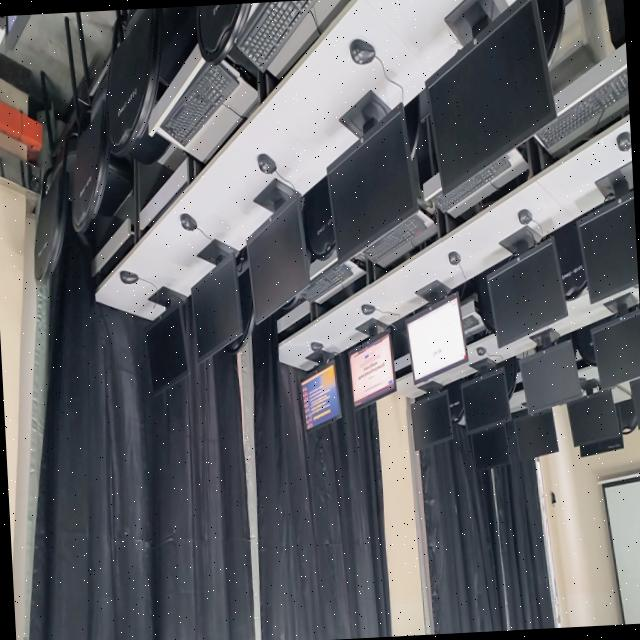Chair: (65, 12, 121, 232), (34, 62, 77, 283), (107, 8, 162, 153), (552, 221, 587, 301), (197, 4, 242, 63), (303, 178, 335, 260), (226, 269, 254, 353), (537, 0, 565, 62), (499, 357, 519, 401), (444, 381, 464, 422), (615, 399, 637, 434)
Keyboard: (537, 70, 629, 149), (161, 64, 239, 146), (235, 0, 316, 72), (431, 155, 511, 212), (360, 207, 434, 266), (299, 263, 353, 303), (463, 315, 479, 332)
Monitor: (424, 0, 556, 193), (326, 91, 418, 262), (486, 226, 567, 347), (246, 180, 310, 322), (576, 162, 639, 303), (191, 240, 243, 362), (405, 292, 467, 385), (519, 329, 582, 414), (591, 295, 640, 387), (349, 326, 396, 410), (146, 309, 188, 395), (461, 367, 511, 434), (567, 391, 622, 446), (301, 361, 341, 430), (411, 391, 453, 451), (513, 409, 558, 460), (470, 425, 511, 470), (579, 436, 623, 457), (630, 379, 640, 429)
Mouse: (350, 39, 375, 65), (258, 154, 277, 175), (181, 214, 197, 231), (120, 271, 139, 285), (617, 133, 631, 151), (518, 209, 533, 225), (448, 252, 461, 266), (361, 305, 375, 315), (311, 342, 324, 352), (477, 347, 486, 356)
